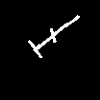double_crochet: (28, 15, 79, 57)
